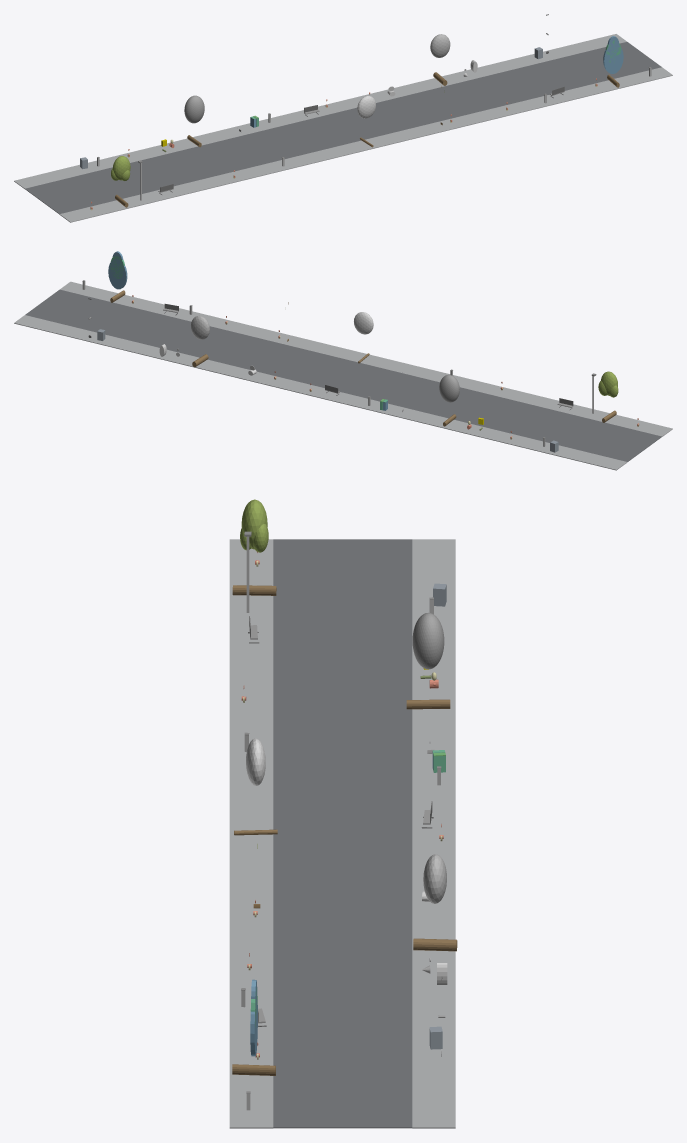
3 views of the same model, one above another, from view 1: azimuth 30°, elevation 25°; view 2: azimuth 150°, elevation 25°; view 3: azimuth 270°, elevation 25° (orthographic). The views are drawn at different scales.
Parts seen in each view (by area): view 1: road_slab, sidewalk_left, sidewalk_right, inst_0016, inst_0013, inst_0015, inst_0012, inst_0014; view 2: road_slab, sidewalk_right, sidewalk_left, inst_0016, inst_0013, inst_0012, inst_0015, inst_0014; view 3: road_slab, sidewalk_left, sidewalk_right, inst_0013, inst_0012, inst_0015, inst_0016, inst_0014.
Part boxes in pixels (x1,y1,x2,y2): road_slab: (25, 42, 661, 214); sidewalk_left: (59, 67, 672, 222); sidewalk_right: (14, 34, 626, 188); inst_0016: (603, 36, 623, 87); inst_0013: (184, 95, 204, 147); inst_0015: (430, 34, 450, 85); inst_0012: (111, 156, 130, 207); inst_0014: (357, 96, 375, 147); road_slab: (25, 289, 661, 461); sidewalk_right: (14, 315, 627, 470); sidewalk_left: (60, 281, 672, 436); inst_0016: (108, 251, 127, 302); inst_0013: (439, 374, 459, 426); inst_0012: (598, 371, 618, 422); inst_0015: (191, 315, 209, 367); inst_0014: (354, 312, 373, 363); road_slab: (273, 539, 412, 1128); sidewalk_left: (229, 539, 273, 1128); sidewalk_right: (412, 539, 455, 1128); inst_0013: (406, 612, 450, 709); inst_0012: (232, 499, 276, 595); inst_0015: (413, 854, 457, 951); inst_0016: (232, 979, 275, 1075); inst_0014: (234, 738, 277, 835).
Bounding box in the file's own units: 80 × 6.08 × 13.08.
